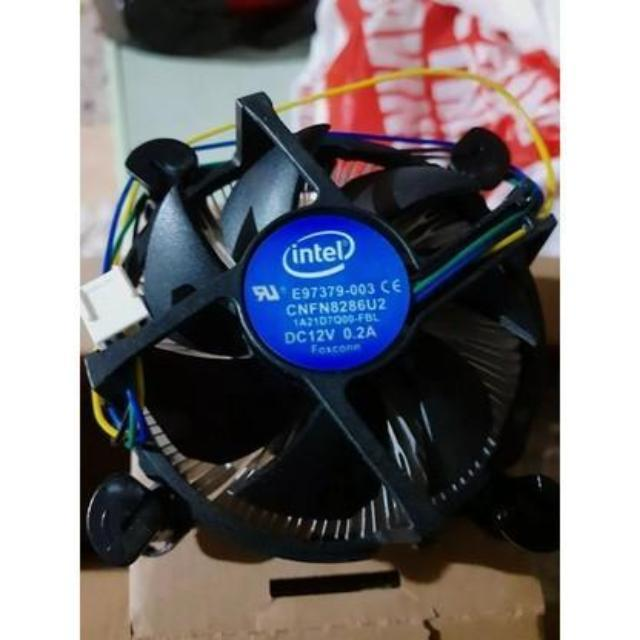CPU_Fan: (118, 130, 553, 556)
